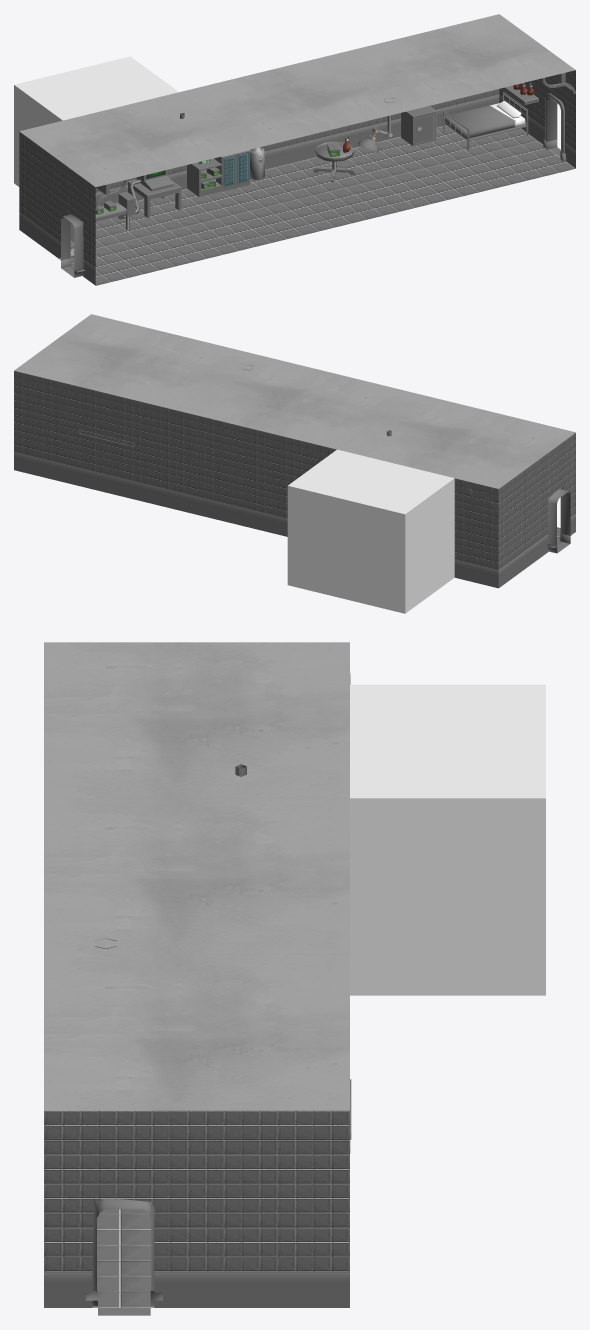
The model's file is MSH_Med_room_L1_R3_optimized.fbx.
3 renders of one model, top to bottom at view 1: azimuth 30°, elevation 25°; view 2: azimuth 150°, elevation 25°; view 3: azimuth 270°, elevation 25°, orthographic. The views are drawn at different scales.
Visible parts, largest first — view 1: lightmap0, lightmap1, lightmap-1; view 2: lightmap0, lightmap-1; view 3: lightmap0, lightmap-1.
Part boxes in pixels (<box>): lightmap0: <box>14,14,575,285</box>; lightmap1: <box>68,83,538,258</box>; lightmap-1: <box>61,98,560,277</box>; lightmap0: <box>14,314,575,613</box>; lightmap-1: <box>548,489,570,553</box>; lightmap0: <box>44,642,545,1307</box>; lightmap-1: <box>97,1199,151,1315</box>.
Size of the model in its own units: 30.91 by 6.19 by 13.54.
Materials: 5 (5 with a texture image).
